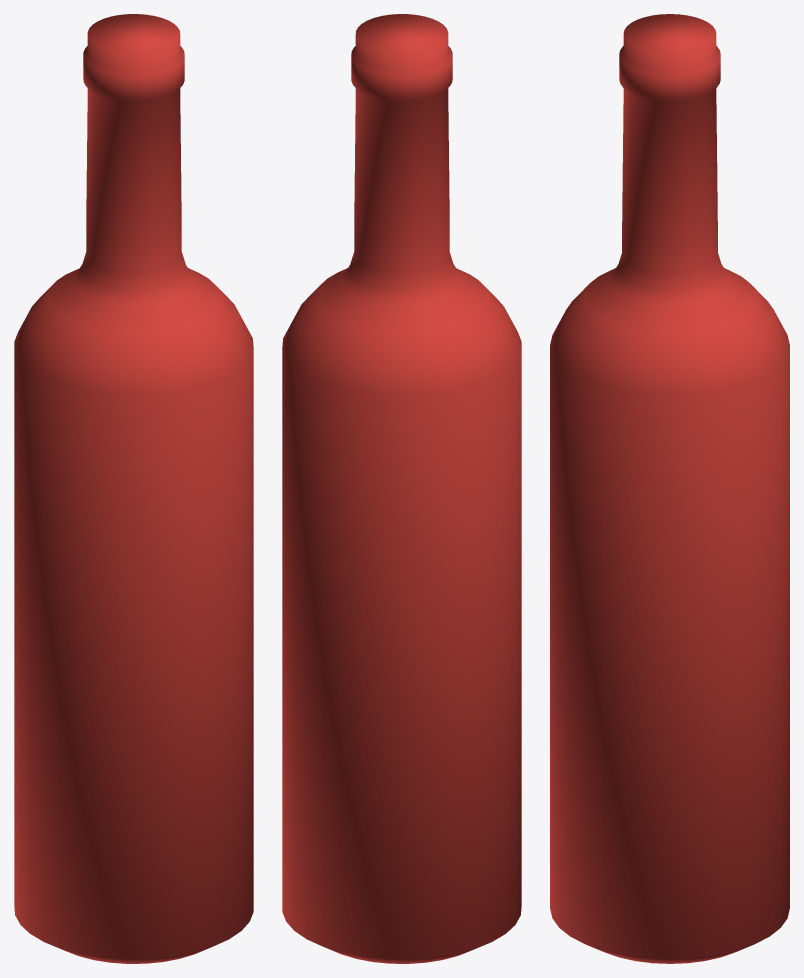
File: botella2.fbx
The picture shows the model from 3 angles, left to right: view 1: azimuth 30°, elevation 25°; view 2: azimuth 150°, elevation 25°; view 3: azimuth 270°, elevation 25°; orthographic projection.
Visible parts, largest first — view 1: Cylinder; view 2: Cylinder; view 3: Cylinder.
Boxes of the visible parts, box(x1,y1,x2,y2) form: Cylinder: box(14, 14, 253, 963); Cylinder: box(282, 14, 521, 963); Cylinder: box(550, 14, 789, 963).
Bounding box in the file's own units: 269 × 1112 × 269.
